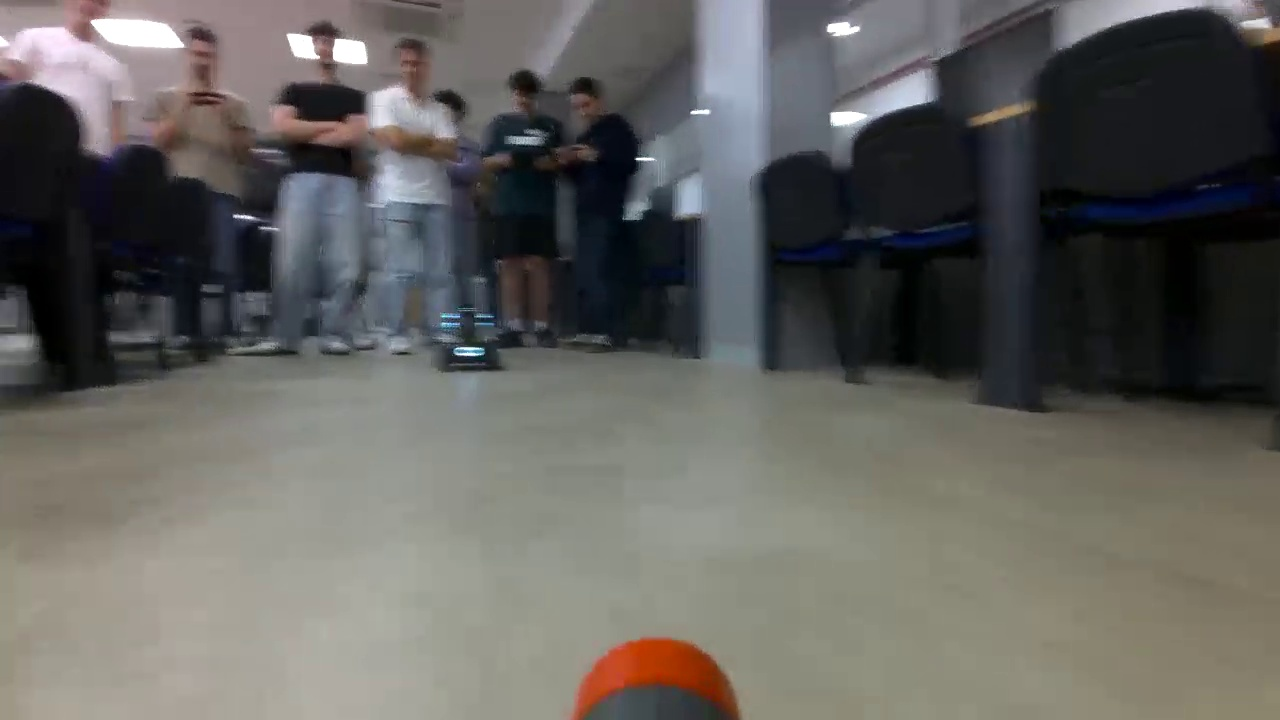robot: (435, 308, 500, 372)
